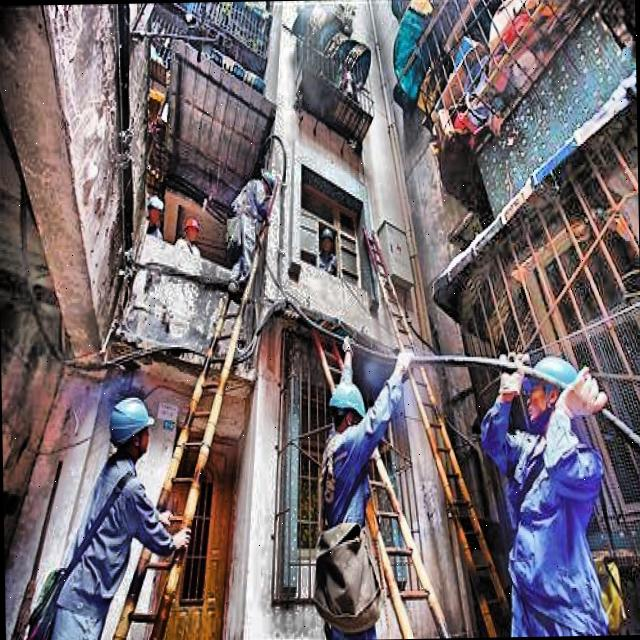helmet: (522, 346, 576, 416), (105, 389, 155, 462), (328, 378, 364, 434), (256, 164, 276, 195), (318, 222, 334, 258), (184, 212, 200, 244)
